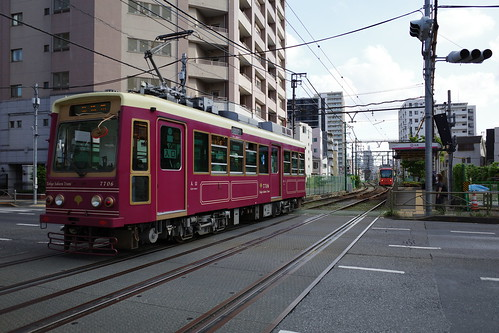building: (1, 1, 285, 122), (405, 97, 478, 141), (310, 89, 344, 174)
sky: (303, 1, 499, 87)
street: (338, 207, 499, 333)
train: (42, 99, 314, 258)
train track: (1, 201, 378, 333)
